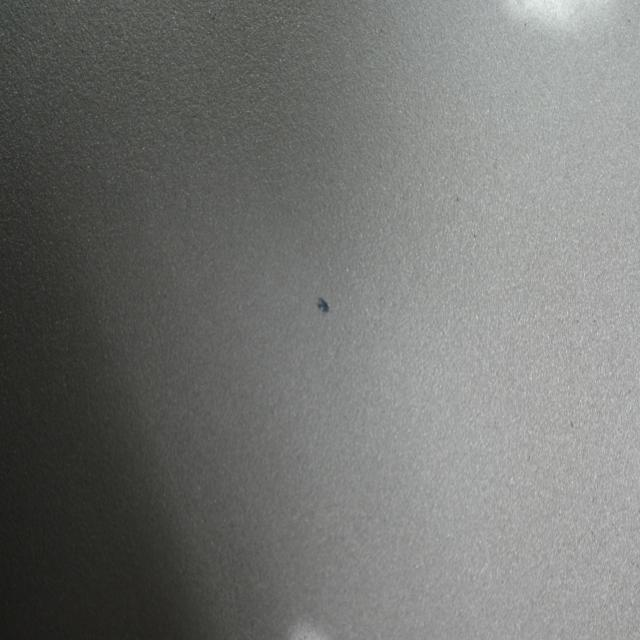dirt: (316, 292, 334, 316)
